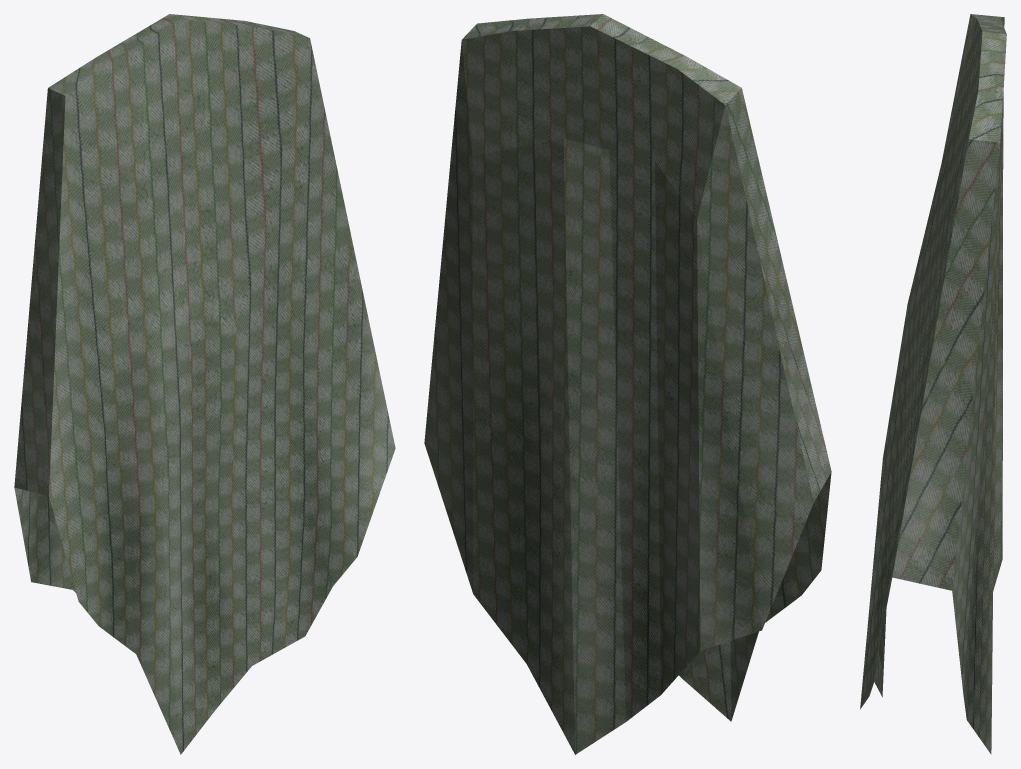
File: Mirror.Cover_Long.fbx
3 renders of one model, left to right at view 1: azimuth 30°, elevation 25°; view 2: azimuth 150°, elevation 25°; view 3: azimuth 270°, elevation 25°, orthographic. The views are drawn at different scales.
Visible parts, largest first — view 1: Mirror.Cover_Long; view 2: Mirror.Cover_Long; view 3: Mirror.Cover_Long.
Part boxes in pixels (<box>): Mirror.Cover_Long: <box>14,14,395,754</box>; Mirror.Cover_Long: <box>424,14,831,754</box>; Mirror.Cover_Long: <box>860,14,1006,754</box>.
Size of the model in its own units: 87.4 by 159 by 29.67.
